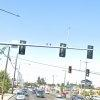traffic lights: (19, 40, 27, 56), (59, 43, 67, 57), (88, 44, 94, 60), (68, 66, 72, 74)
